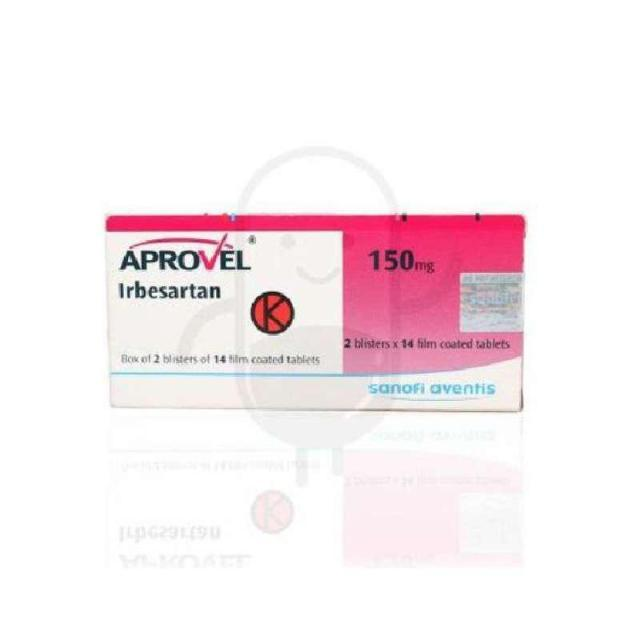drug-name: (115, 236, 253, 274)
